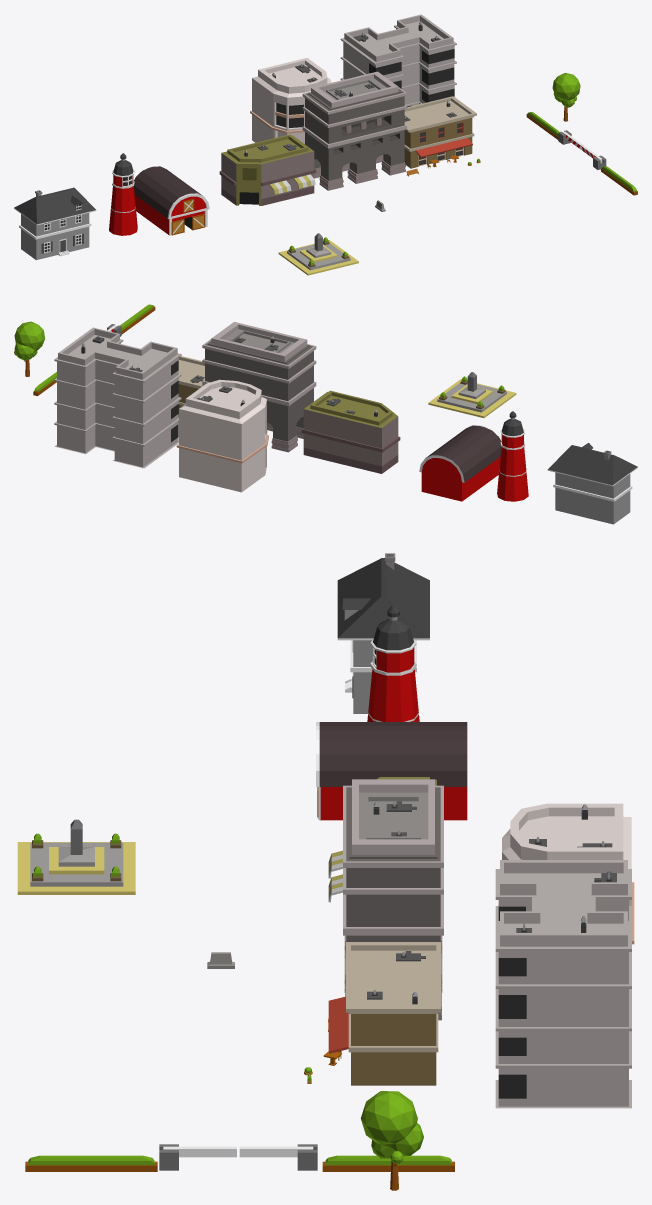
File: building.fbx
The picture shows the model from 3 angles, top to bottom: view 1: azimuth 30°, elevation 25°; view 2: azimuth 150°, elevation 25°; view 3: azimuth 270°, elevation 25°; orthographic projection. The views are drawn at different scales.
Parts seen in each view (by area): view 1: Cube.002, Cube.019, Cube.020, Cube.009, Cube.021, Cube, Cube.014, Cylinder.002, Cube.001, Cylinder.001; view 2: Cube.019, Cube.009, Cube.002, Cube.020, Cube.021, Cube.014, Cylinder.002, Cube.001, Cylinder.001, Cube, Cube.008; view 3: Cube.019, Cube.002, Cube, Cube.014, Cube.021, Cube.009, Cube.001, Cylinder.002, Cylinder.001, Cube.008, Cube.006, Cube.004 (+1 smaller).
Boxes of the visible parts, x1,y1,x2,y2 form: Cube.002: (302,71,406,190); Cube.019: (340,14,456,107); Cube.020: (219,134,316,205); Cube.009: (250,58,331,143); Cube.021: (14,187,96,260); Cube: (404,96,476,168); Cube.014: (134,166,209,235); Cylinder.002: (109,153,137,235); Cube.001: (278,233,358,275); Cylinder.001: (552,73,580,121); Cube.019: (54,327,181,468); Cube.009: (176,379,268,492); Cube.002: (202,322,316,452); Cube.020: (301,390,400,473); Cube.021: (547,443,637,524); Cube.014: (419,425,501,501); Cylinder.002: (497,411,528,501); Cube.001: (428,372,516,417); Cylinder.001: (14,321,45,376); Cube: (178,356,204,423); Cube.008: (120,304,155,334); Cube.019: (495,860,631,1108); Cube.002: (343,779,443,1020); Cube: (323,942,441,1085); Cube.014: (316,722,467,820); Cube.021: (337,553,429,713); Cube.009: (498,803,634,944); Cube.001: (17,819,135,894); Cylinder.002: (367,605,419,721); Cylinder.001: (360,1091,423,1190); Cube.008: (25,1155,157,1171); Cube.006: (322,1155,454,1171); Cube.004: (239,1144,317,1170).
Bounding box in the file's own units: 3004 × 466 × 1446.
1 material, 1 textured.
